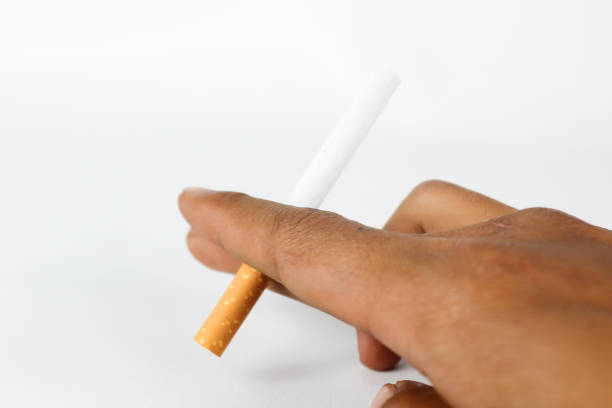cigarette: (191, 64, 405, 360)
